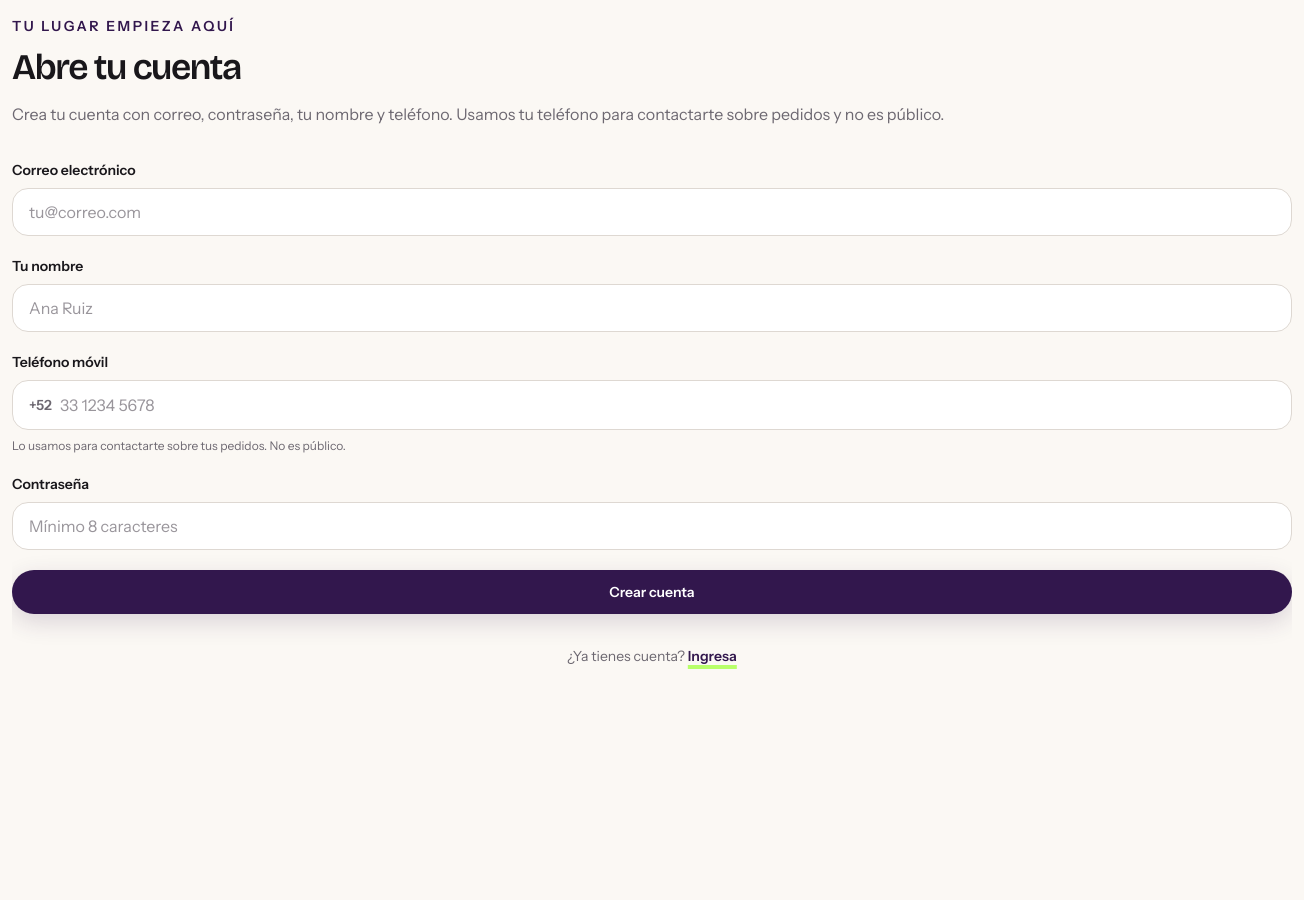
a rejected submit never discards what was typed › keeps the email and phone on registration but never the password
The width and height of the screenshot is (1304, 900).
Step 1. Type "persona@volcanes.mx" into the field labelled "Correo electrónico" → (652, 212), box [12,188,1292,236]
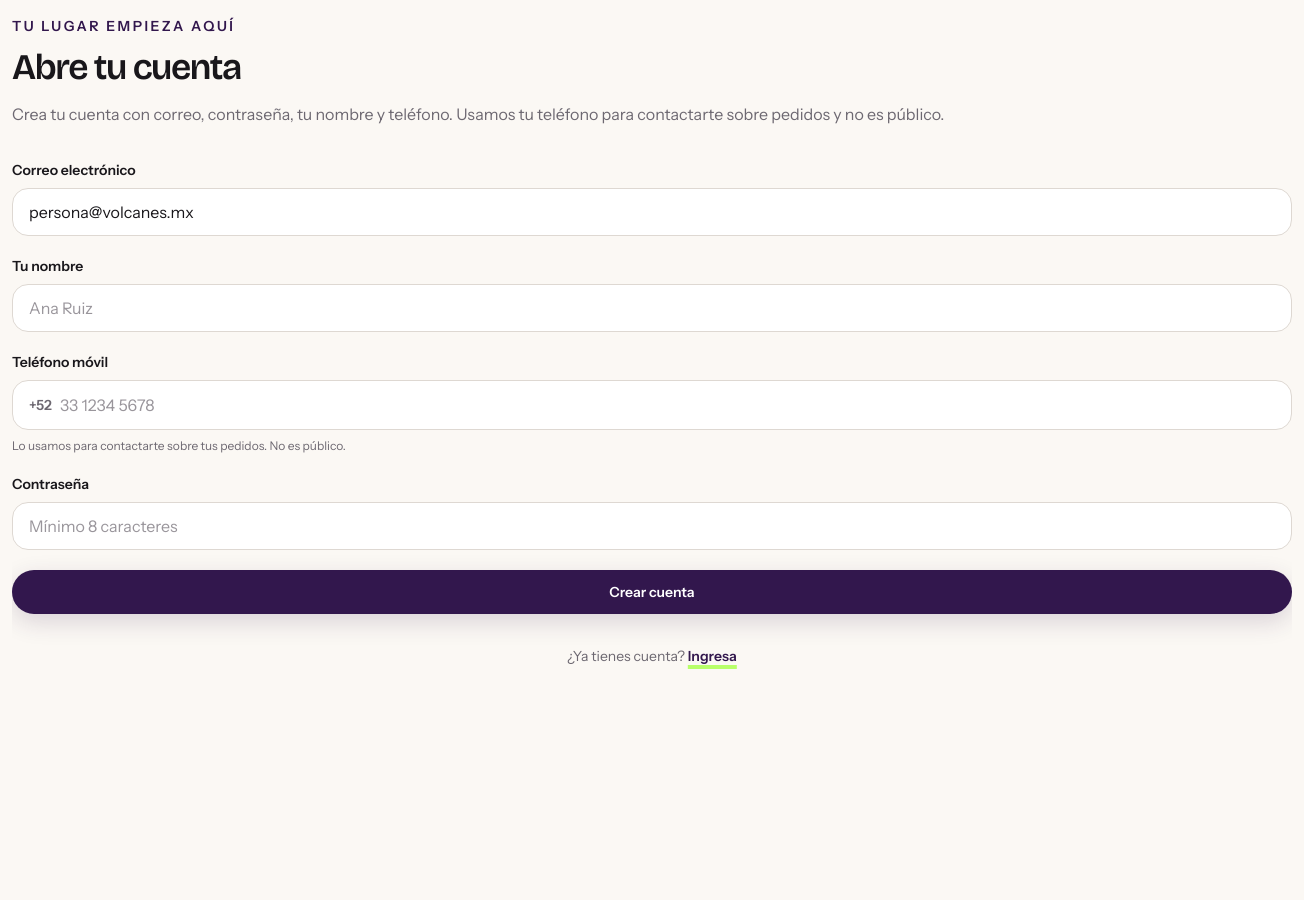
Step 2. Type "3312345678" into the field labelled "Teléfono móvil" → (667, 405), box [60,381,1275,429]
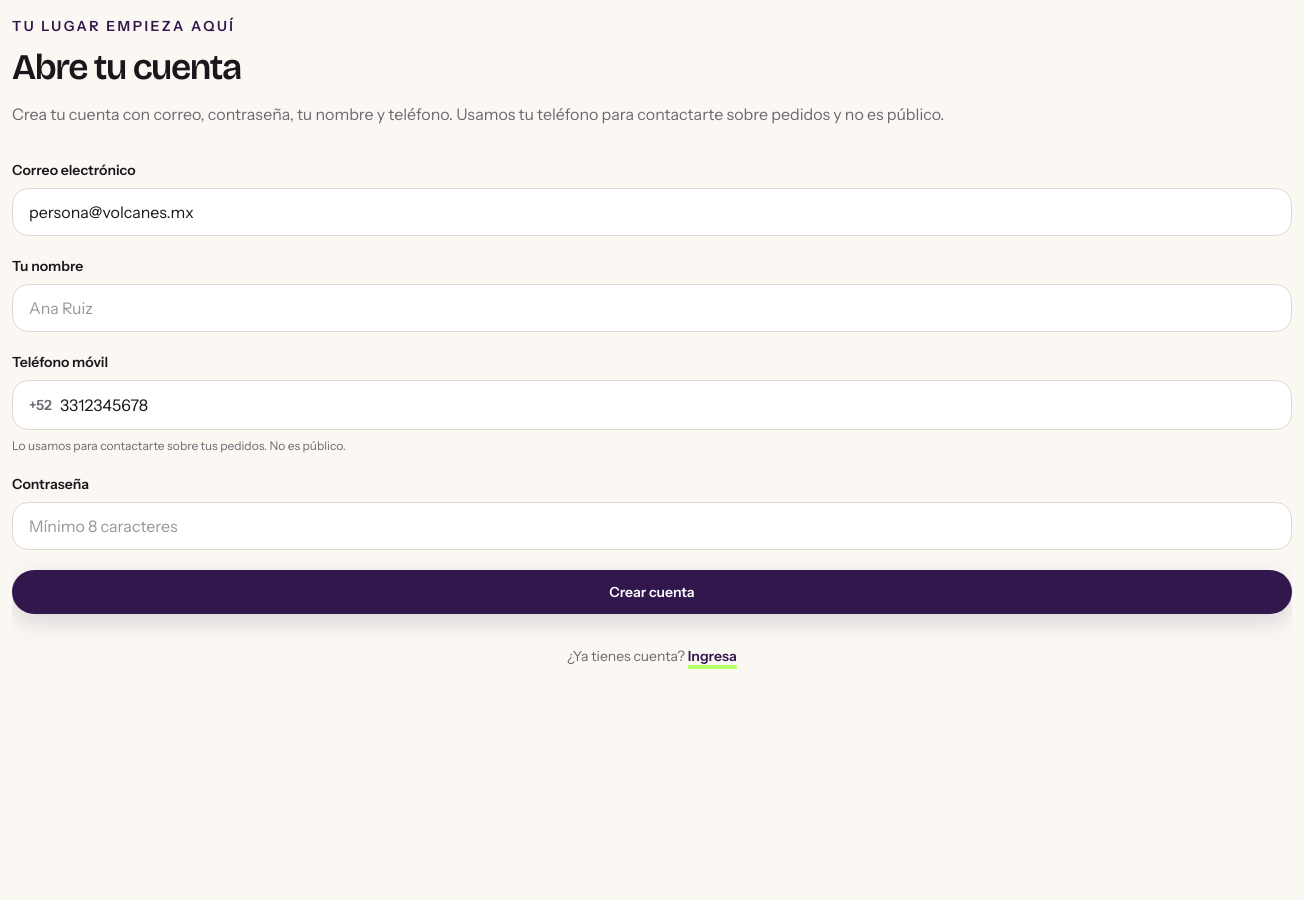
Step 3. Type "corto" into the password field labelled "Contraseña" → (652, 526), box [12,502,1292,550]
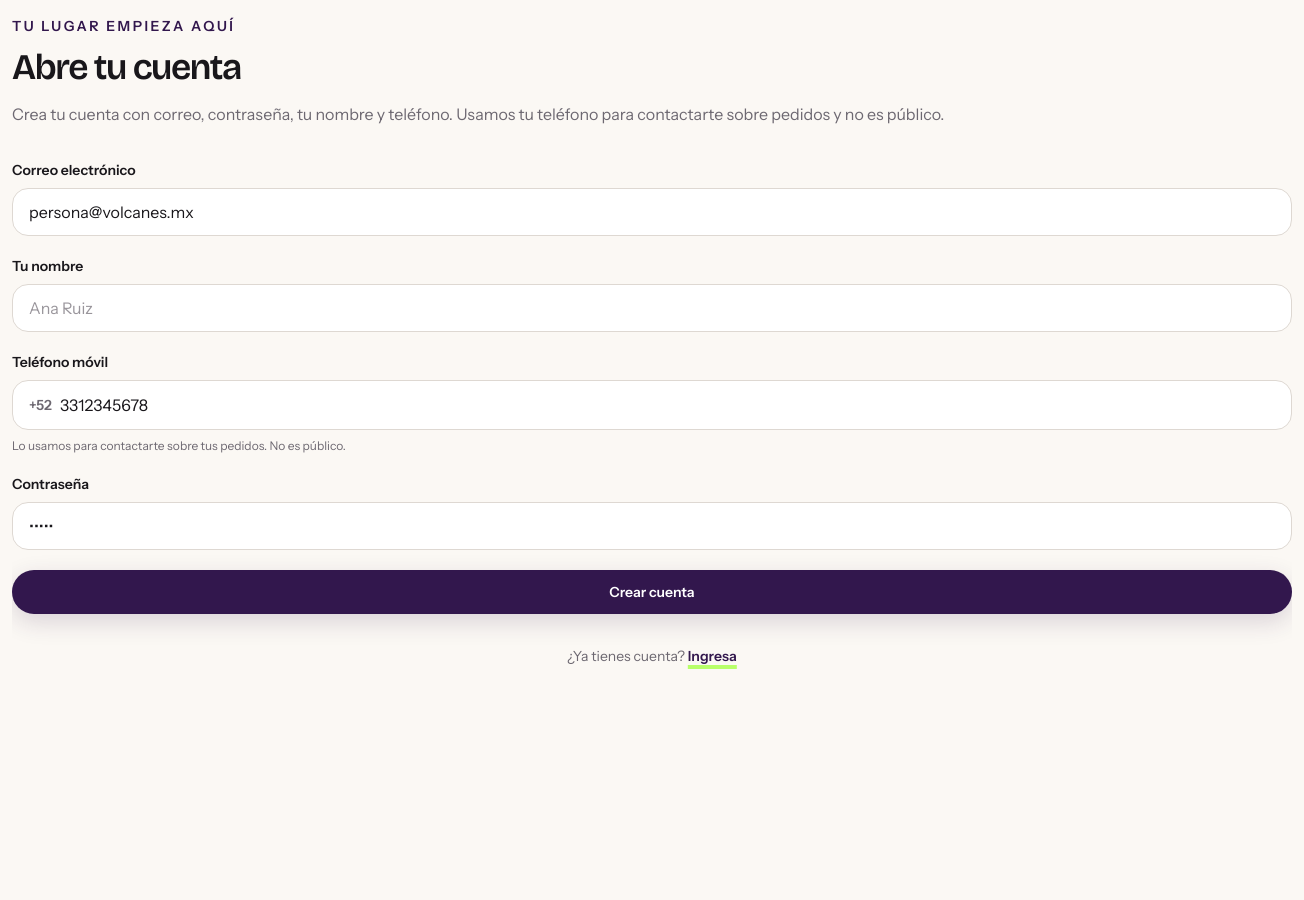
Step 4. Click the button "Crear cuenta" → (652, 592), box [12,570,1292,614]
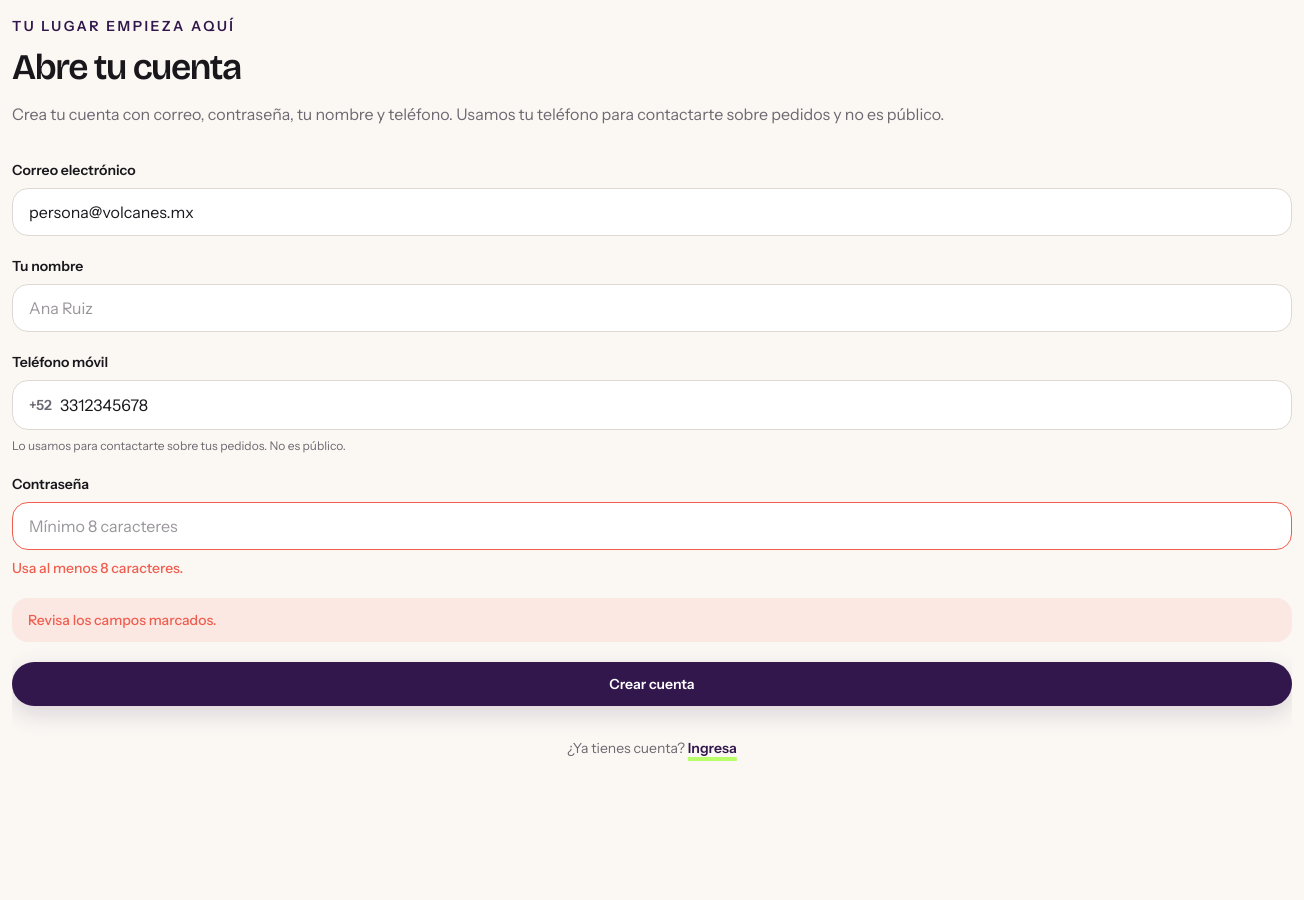
Expected: the message "Revisa los campos marcados." is shown, [12,598,1292,642]
Expected: the password field labelled "Contraseña" is empty, [12,502,1292,550]
